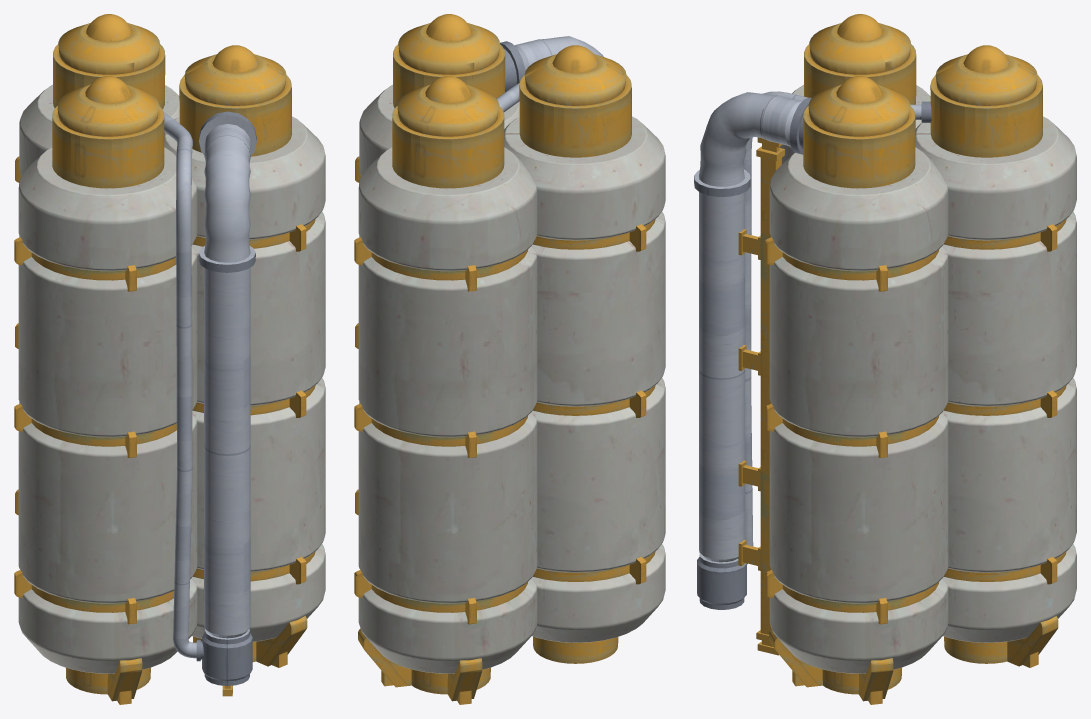
File: Demo_datong.FBX
3 views of the same model, side by side, from view 1: azimuth 30°, elevation 25°; view 2: azimuth 150°, elevation 25°; view 3: azimuth 270°, elevation 25° (orthographic).
Parts seen in each view (by area): view 1: Demo_datong; view 2: Demo_datong; view 3: Demo_datong.
Part boxes in pixels (bbox=[...]): Demo_datong: bbox=[14, 14, 325, 704]; Demo_datong: bbox=[354, 14, 665, 704]; Demo_datong: bbox=[694, 14, 1076, 704].
Size of the model in its own units: 7.87 by 15.53 by 9.
